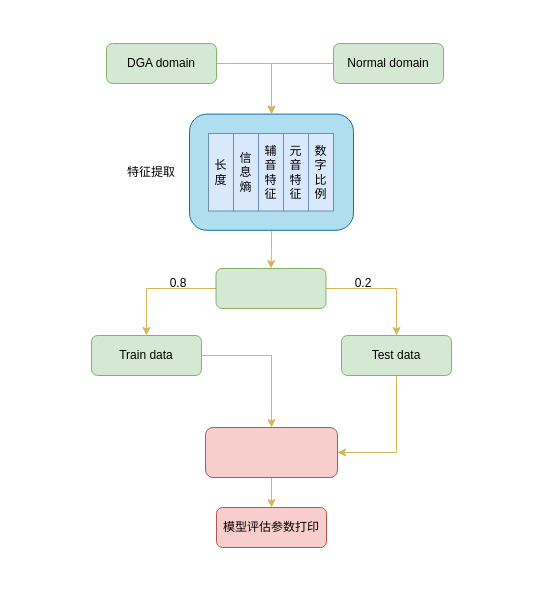
This 543x604 diagram has some shape labels left out. Each missing label, with the centre of its shape:
Features.csv: the point at 270,288
训练随机森林模型 并保存: the point at 271,452
